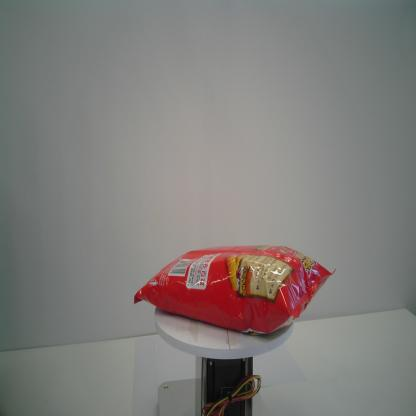Puffed Food: (133, 244, 337, 336)
